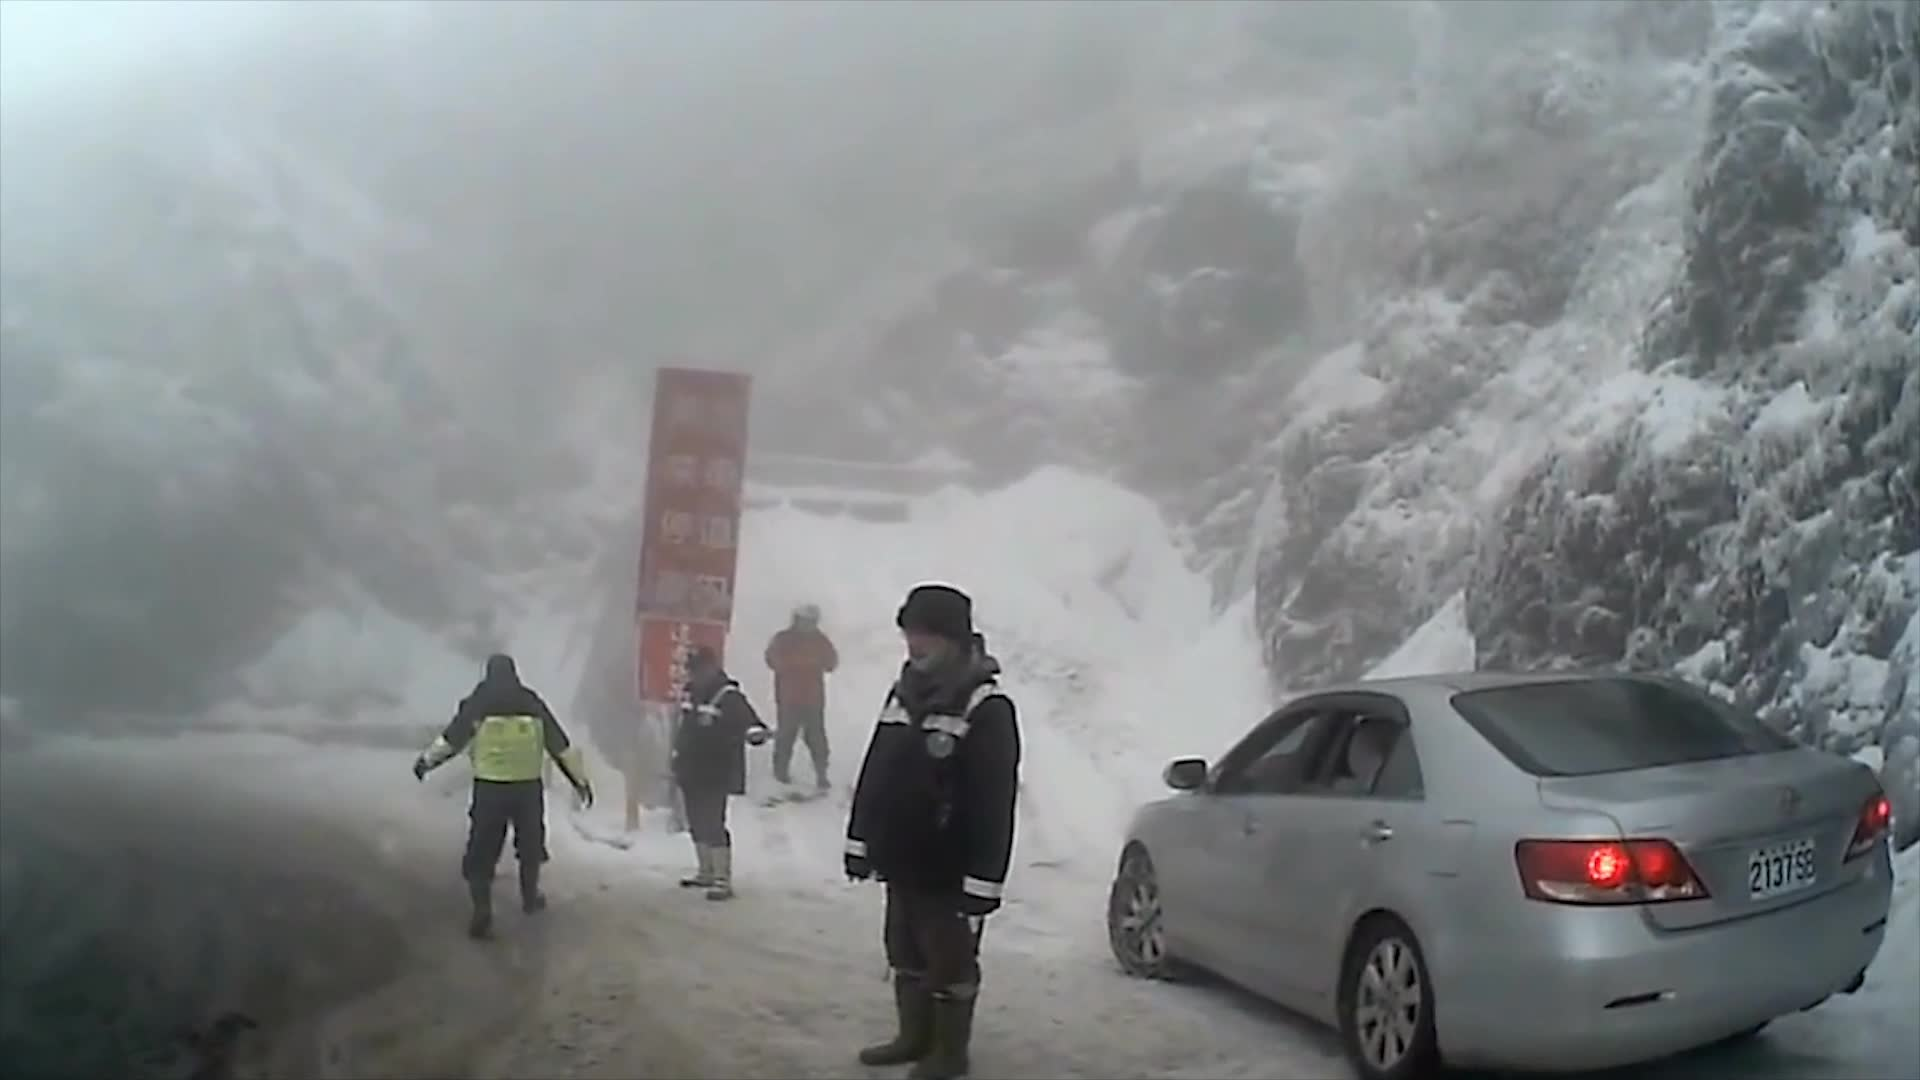pedestrian: (840, 589, 1023, 1080), (440, 669, 593, 942), (676, 651, 776, 906), (775, 612, 844, 804)
vehicle: (1110, 676, 1896, 1080)
